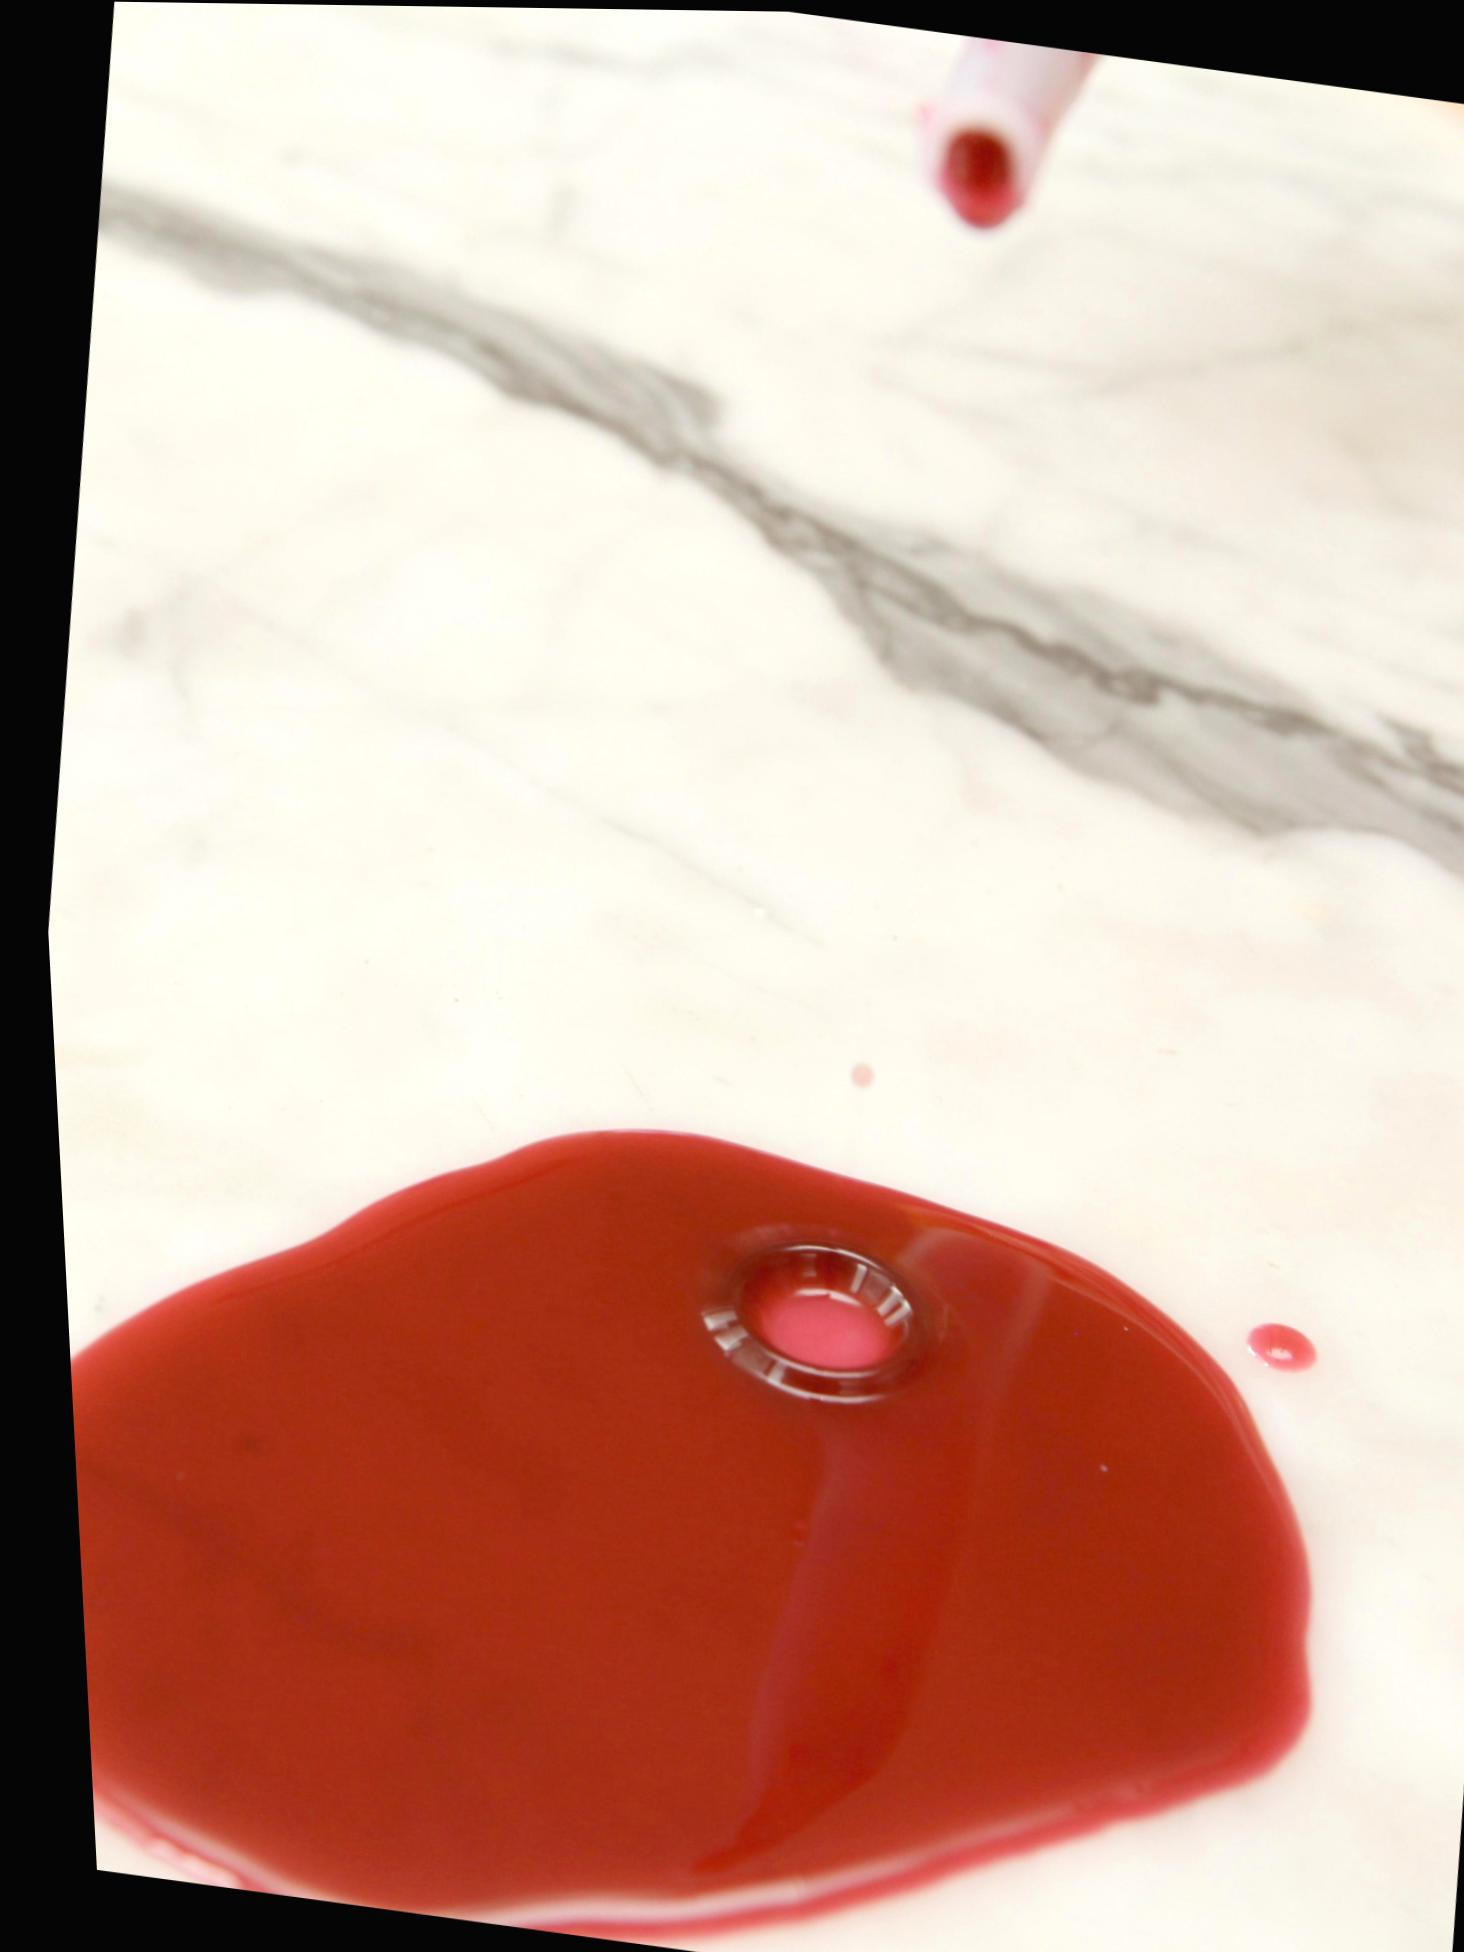Fire: (55, 1125, 1295, 1946), (1232, 1317, 1303, 1368)
